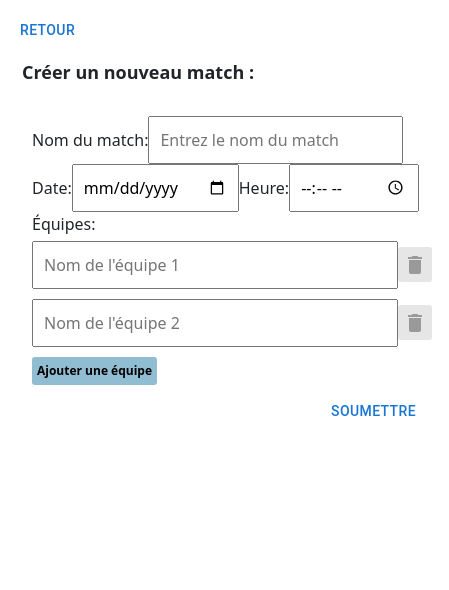
NewGame Component › Message d'erreur lors de la soumission du formulaire avec le champ "Heure:" vide
Type "Test Game" into the field labelled "Nom du match:" at (276, 140), box 148,116 -> 403,164
Type "2024-01-01" into the date field labelled "Date:" at (155, 188), box 72,164 -> 239,212
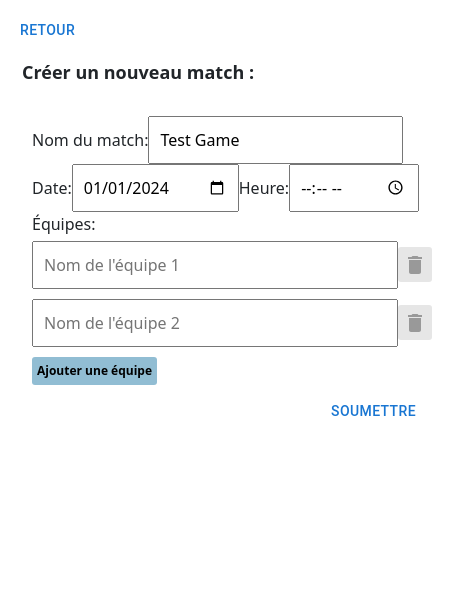
Click the button "Ajouter une équipe" at (94, 370), box 32,356 -> 157,384
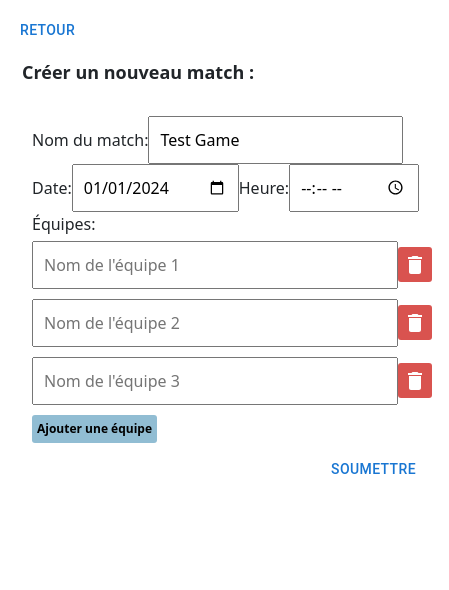
Type "Team A" into the field with placeholder "Nom de l'équipe 1" at (215, 264), box 32,240 -> 398,288
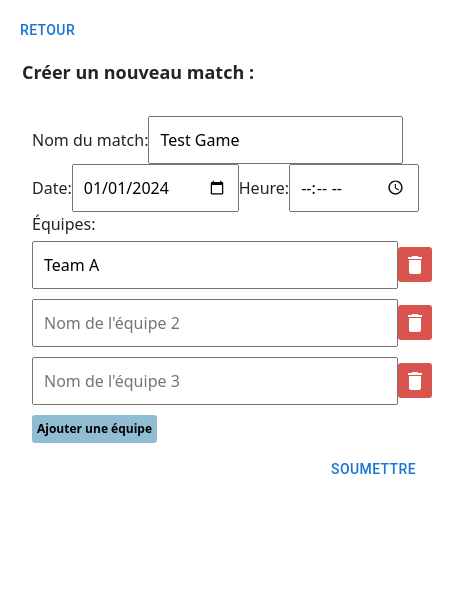
Type "Team B" into the field with placeholder "Nom de l'équipe 2" at (215, 322), box 32,298 -> 398,346
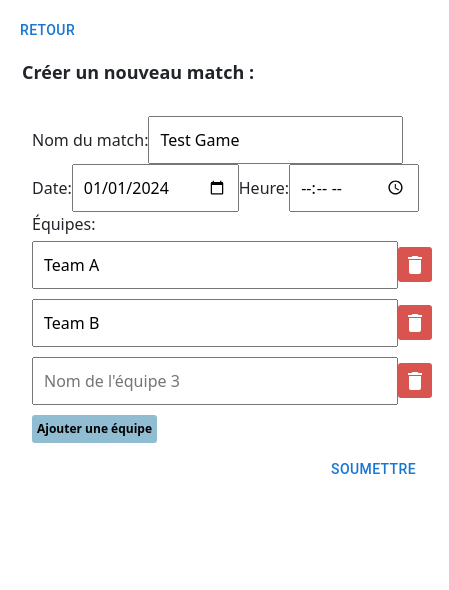
Type "Team C" into the field with placeholder "Nom de l'équipe 3" at (215, 380), box 32,356 -> 398,404
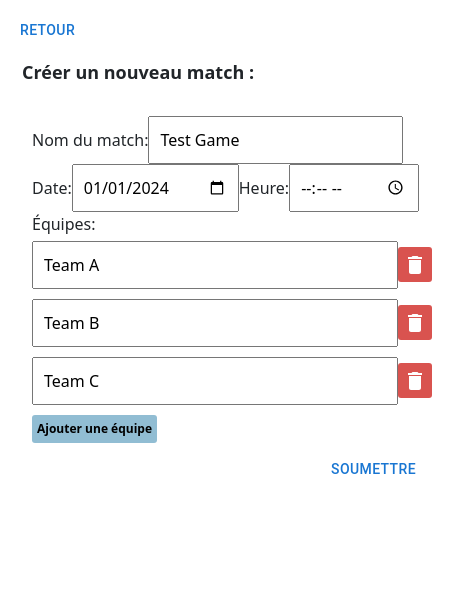
Click the button "Soumettre" at (374, 469), box 323,450 -> 424,487
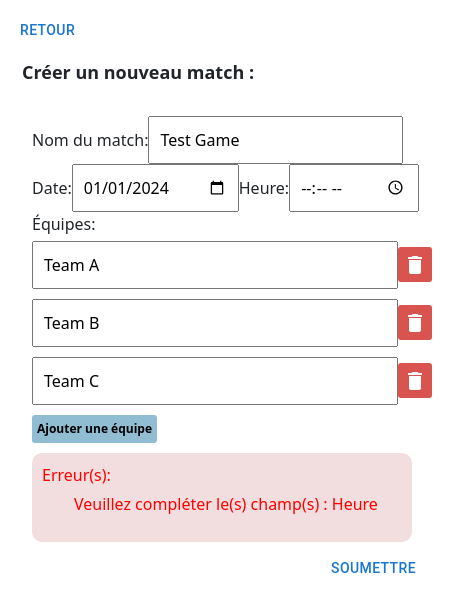
Check: the list item "Veuillez compléter le(s) champ(s) : Heure" is shown, box 74,492 -> 402,516
